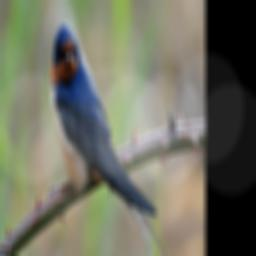Swallow: (48, 21, 177, 256)
